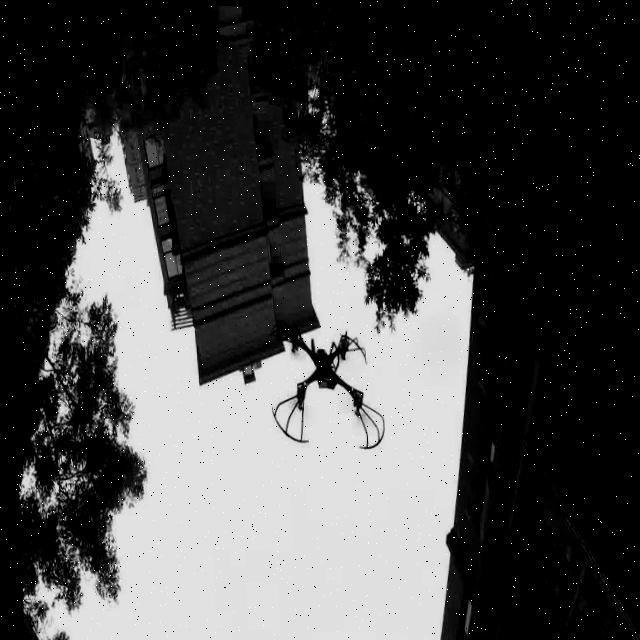drone: (262, 307, 390, 472)
